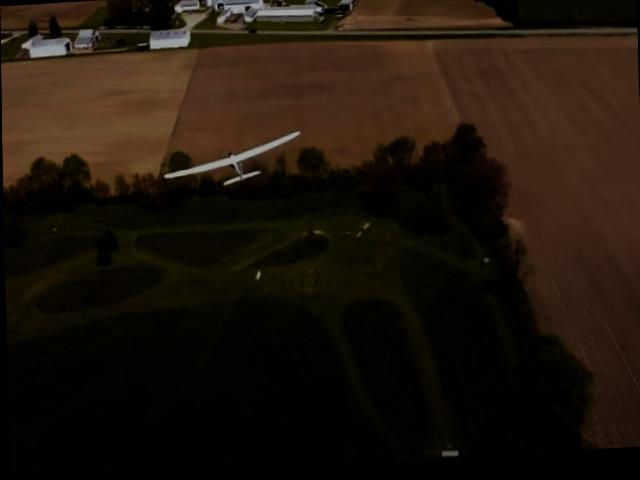iha: (164, 130, 299, 193)
